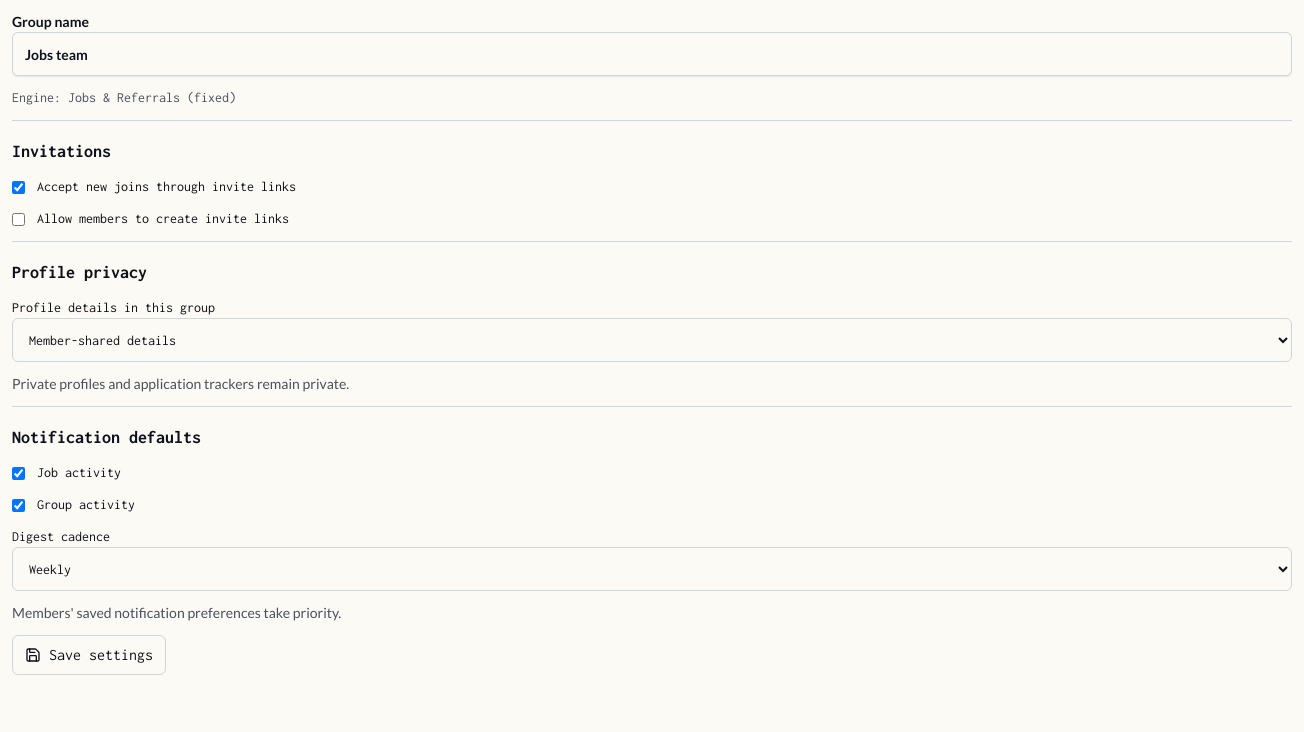
Test: group administration controls › edits centralized settings without an engine control
The image size is (1304, 732).
Step 1. Replace the text in the field labelled "Group name" with "New name" → (652, 54), box [12,32,1292,76]
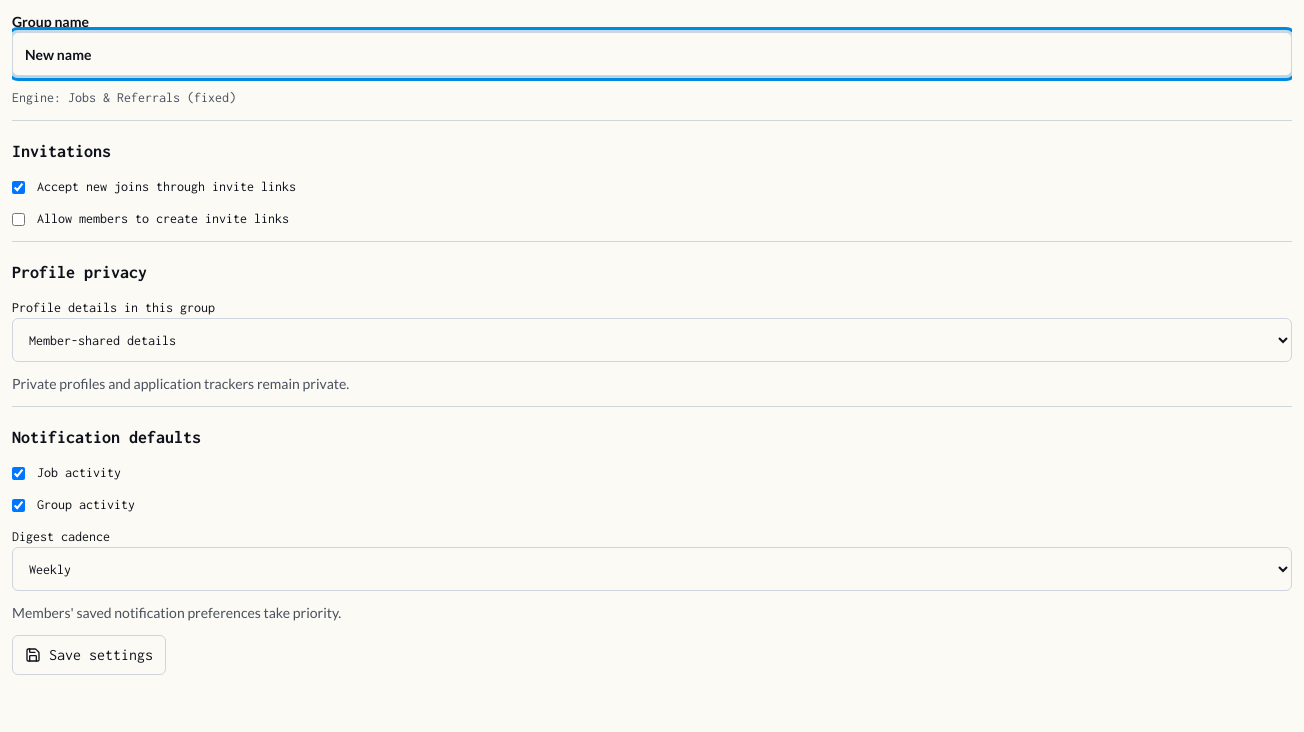
Step 2. Click the button "Save settings" → (89, 655), box [12,635,166,675]
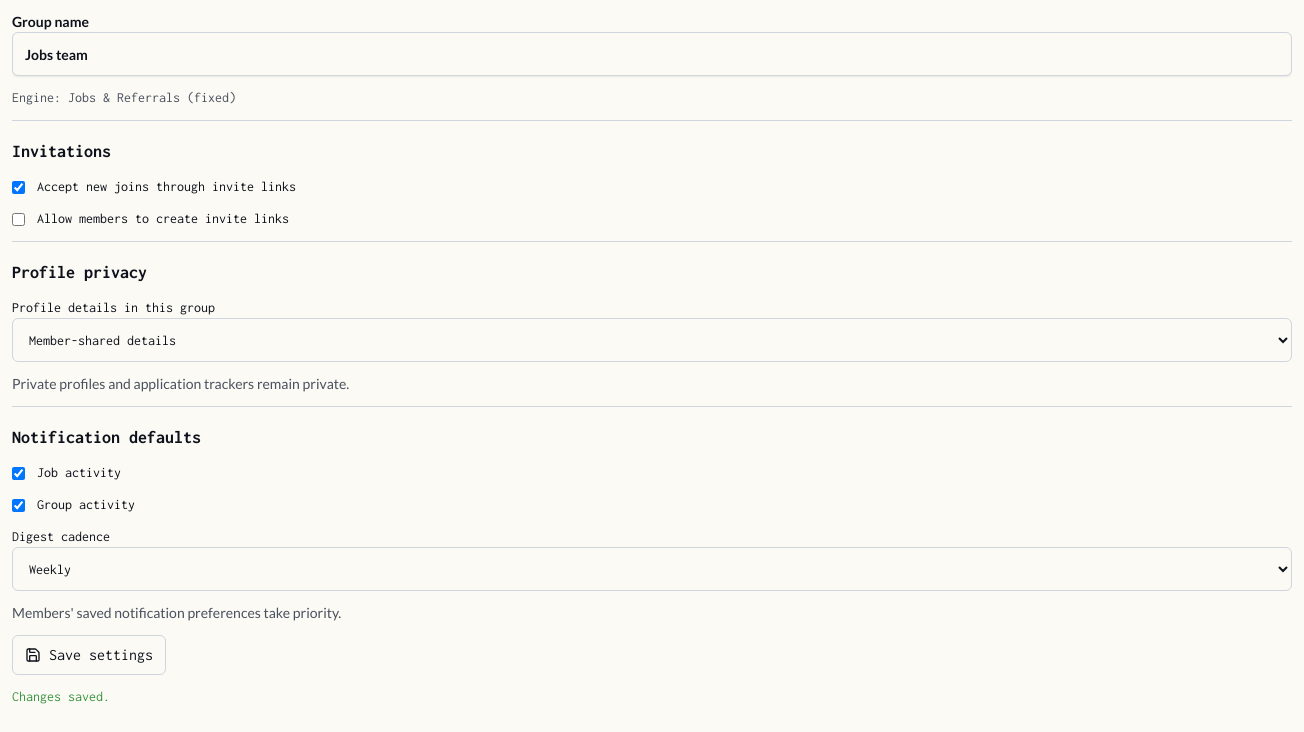
Check: the message reads "Changes saved.", box [12,689,110,704]
